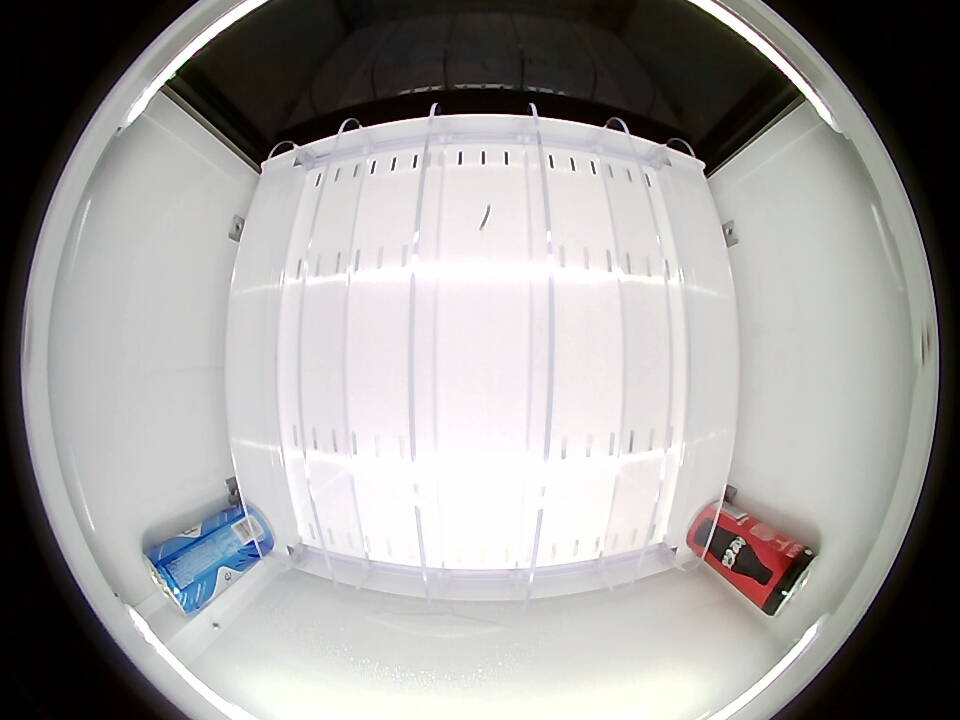lingdukele: (751, 536, 819, 617)
qingdaowangzi-2: (143, 538, 218, 614)
